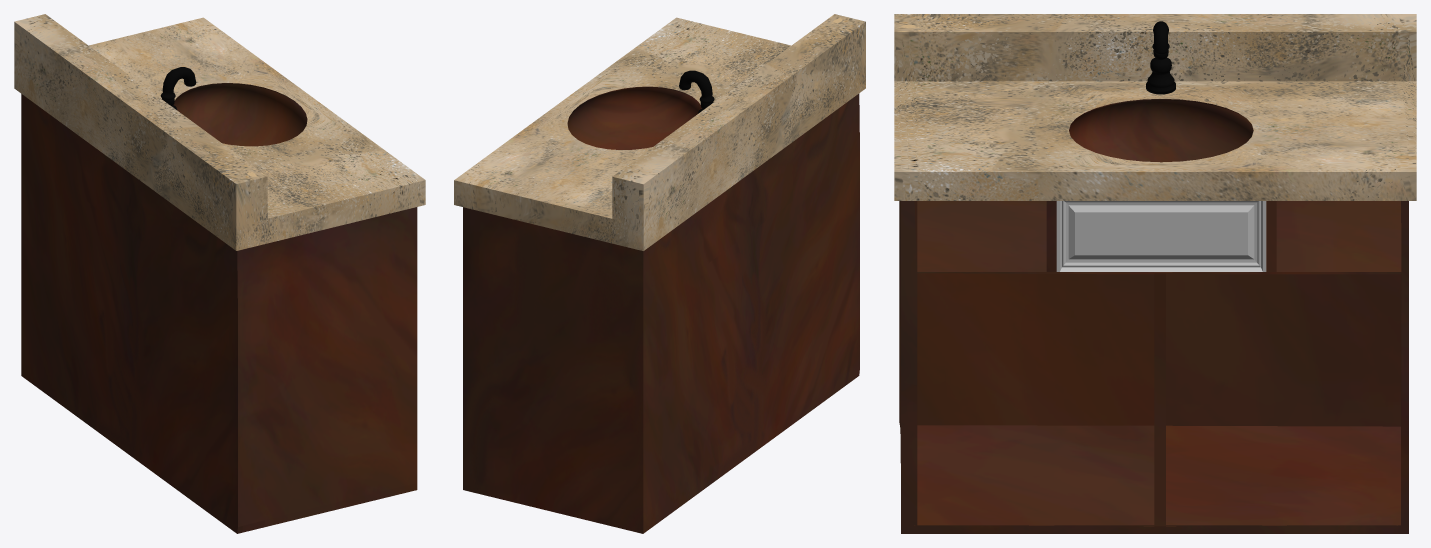
The model's file is Contemporary_BathroomSink.fbx.
3 renders of one model, left to right at view 1: azimuth 30°, elevation 25°; view 2: azimuth 150°, elevation 25°; view 3: azimuth 270°, elevation 25°, orthographic. The views are drawn at different scales.
Parts seen in each view (by area): view 1: Contemporary_Bathroom_SinkCounter, Contemporary_Bathroom_SinkHandle.001; view 2: Contemporary_Bathroom_SinkCounter, Contemporary_Bathroom_SinkHandle.001; view 3: Contemporary_Bathroom_SinkCounter, Contemporary_Bathroom_SinkCabinet_Drawer, Contemporary_Bathroom_SinkHandle.001.
Boxes of the visible parts, bbox=[...] form: Contemporary_Bathroom_SinkCounter: bbox=[14, 14, 425, 533]; Contemporary_Bathroom_SinkHandle.001: bbox=[160, 67, 196, 109]; Contemporary_Bathroom_SinkCounter: bbox=[454, 14, 865, 533]; Contemporary_Bathroom_SinkHandle.001: bbox=[679, 70, 714, 113]; Contemporary_Bathroom_SinkCounter: bbox=[894, 14, 1416, 533]; Contemporary_Bathroom_SinkCabinet_Drawer: bbox=[1056, 201, 1266, 271]; Contemporary_Bathroom_SinkHandle.001: bbox=[1146, 21, 1175, 94].
Bounding box in the file's own units: 177 × 332 × 360.
